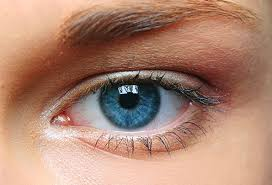pupil: (101, 84, 160, 129)
